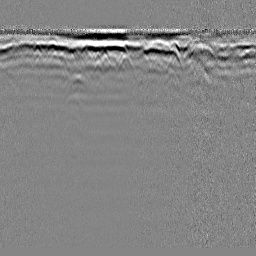cavity: (117, 53, 133, 71)
